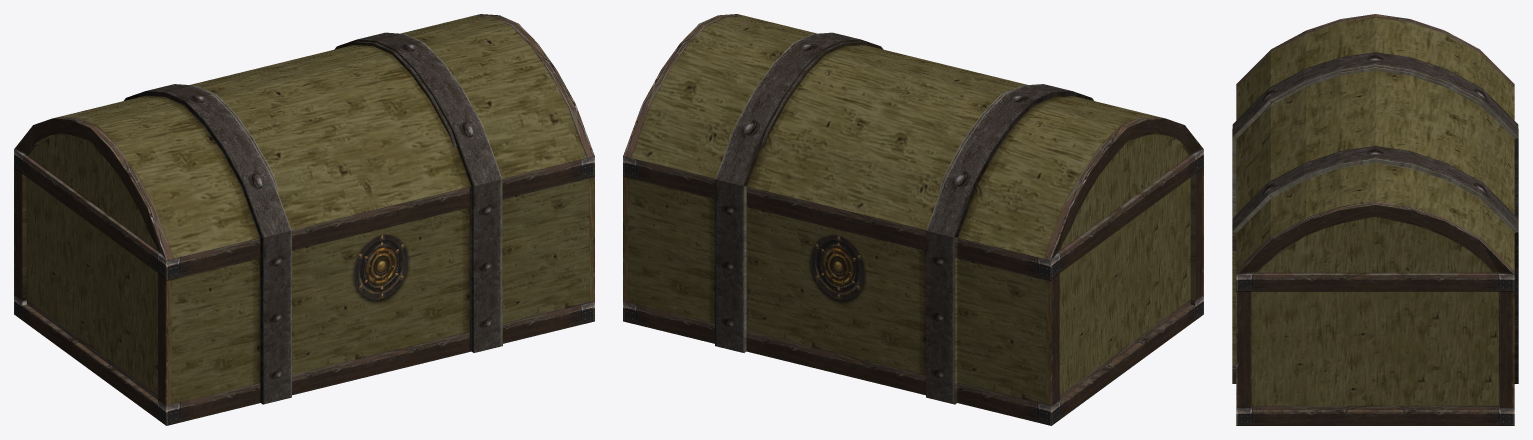
File: Box_1_Animation.FBX
The picture shows the model from 3 angles, left to right: view 1: azimuth 30°, elevation 25°; view 2: azimuth 150°, elevation 25°; view 3: azimuth 270°, elevation 25°; orthographic projection. The views are drawn at different scales.
Visible parts, largest first — view 1: Box_1, 对象001; view 2: Box_1, 对象001; view 3: 对象001, Box_1.
Part boxes in pixels (box(x1,y1,x2,y2)): Box_1: box(14, 149, 594, 425); 对象001: box(14, 14, 594, 260); Box_1: box(623, 149, 1203, 425); 对象001: box(623, 14, 1203, 260); 对象001: box(1232, 14, 1518, 274); Box_1: box(1232, 129, 1518, 425).
Bounding box in the file's own units: 112 × 61.58 × 71.14.
1 material, 1 textured.
